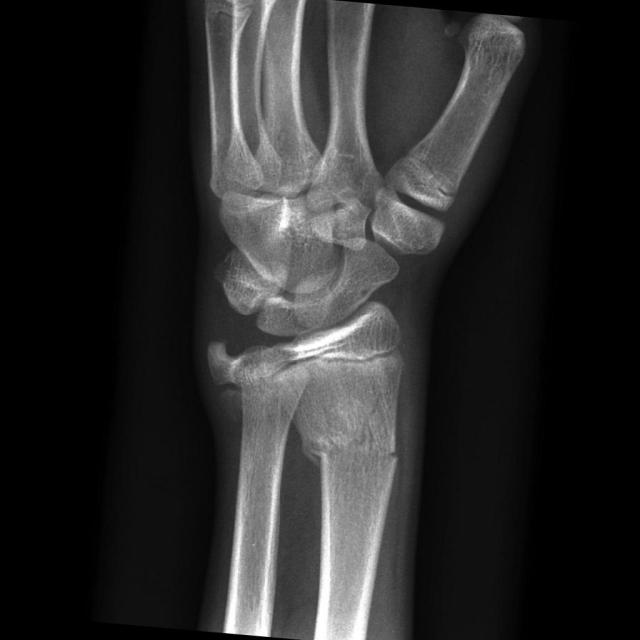Transverse Displaced: (299, 413, 424, 493)
